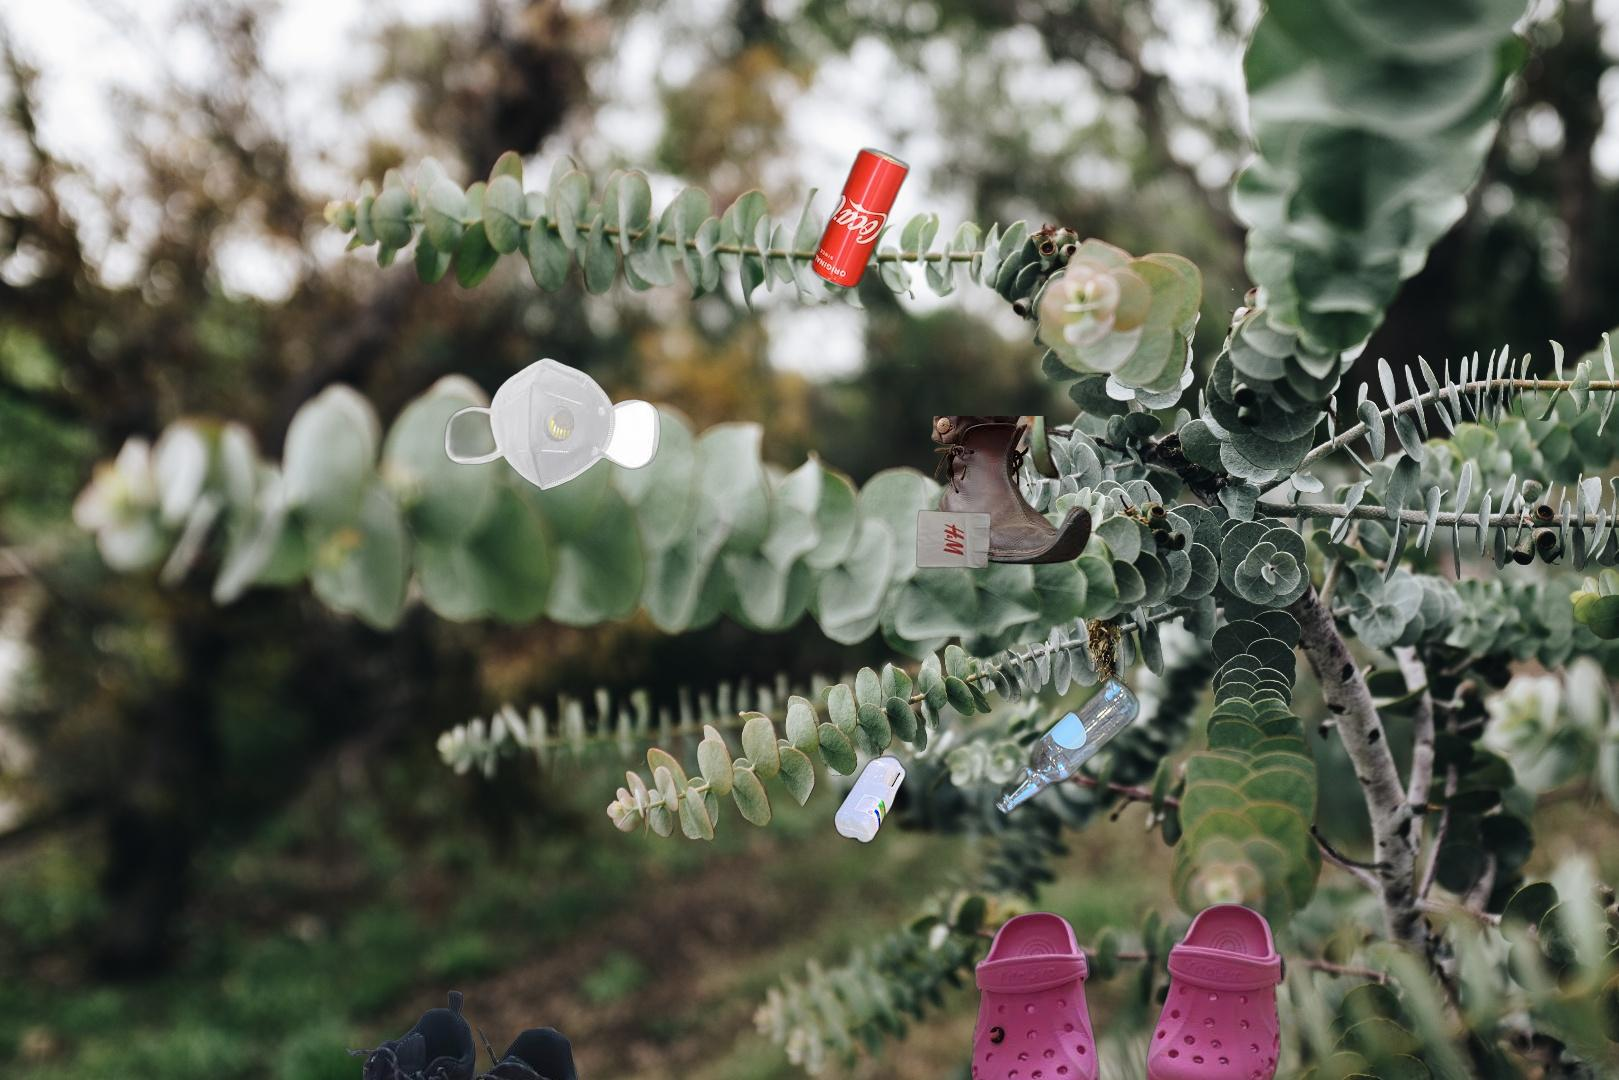glass: (990, 671, 1144, 820)
metal-cans: (806, 142, 913, 294)
paper-bag: (914, 507, 1001, 571)
plastic-bottles: (697, 499, 1209, 849)
shoes: (967, 900, 1289, 1080), (928, 416, 1126, 567), (297, 987, 583, 1080)
trash: (442, 356, 663, 493)
